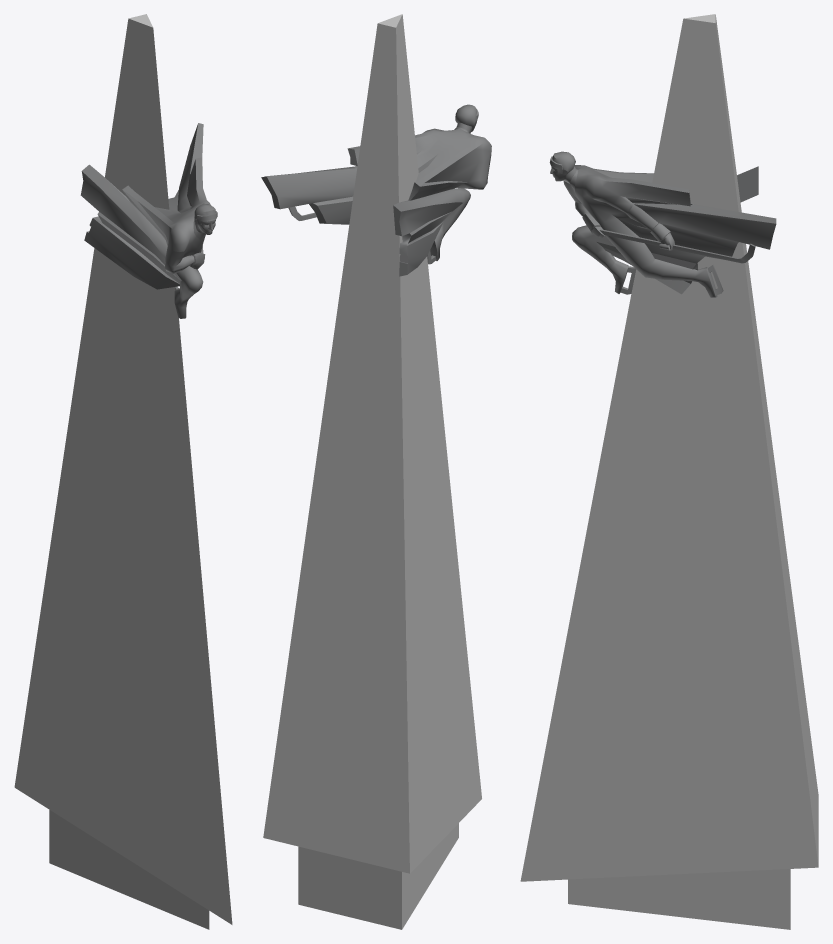
Rendered from omskblinovlod.glb.
3 views of the same model, side by side, from view 1: azimuth 30°, elevation 25°; view 2: azimuth 150°, elevation 25°; view 3: azimuth 270°, elevation 25° (orthographic). The views are drawn at different scales.
Visible parts, largest first — view 1: omskblinovlod; view 2: omskblinovlod; view 3: omskblinovlod.
Boxes of the visible parts, <box> form: omskblinovlod: <box>14,14,232,929</box>; omskblinovlod: <box>261,14,491,929</box>; omskblinovlod: <box>520,14,818,929</box>.
Bounding box in the file's own units: 3.07 × 14.96 × 4.56.
Materials: 1 (1 with a texture image).
